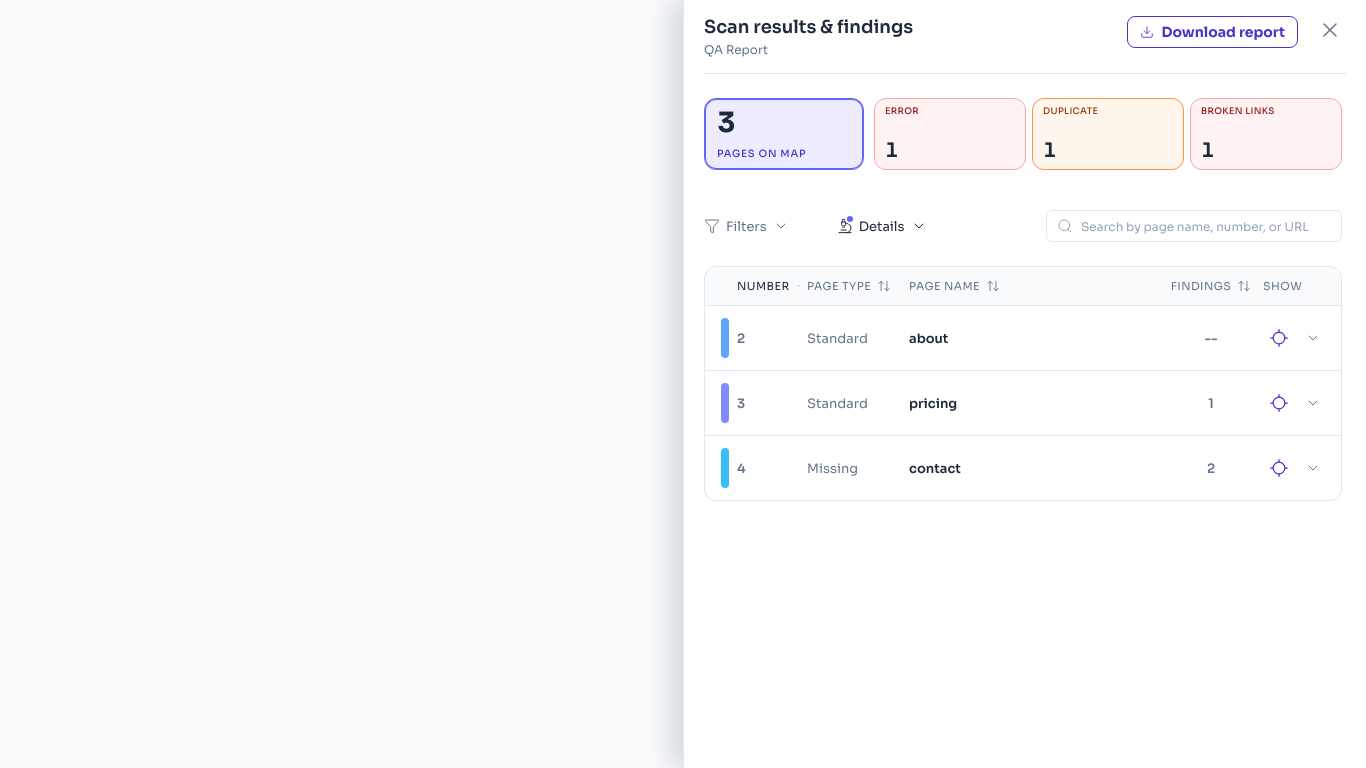
Test case: ReportDrawer › filters report rows from summary chips and clears filters from the total chip
Check: the button with class "report-total-card" is disabled, box [704,98,864,170]
Click the button with aria-label "Filter by Duplicate": (1108, 134) [1032,98,1184,170]
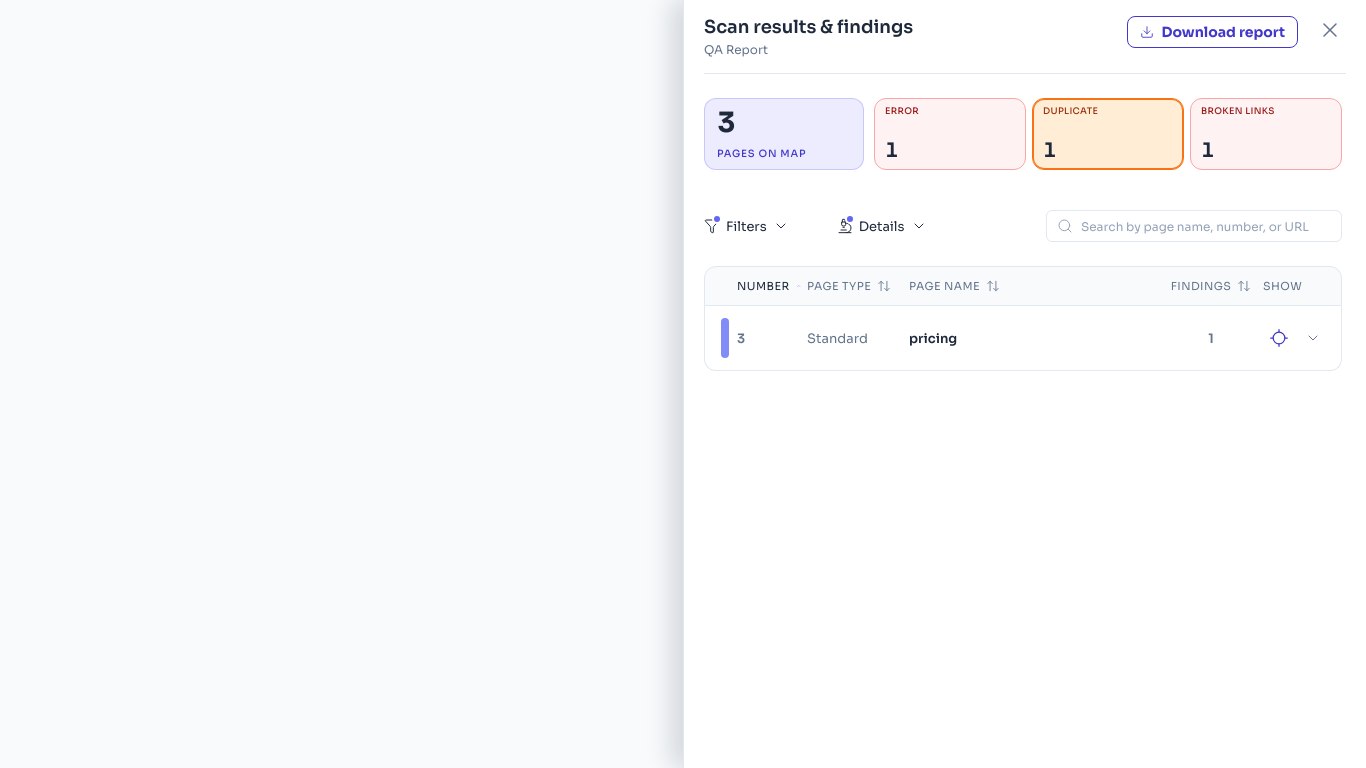
Check: the 1st element with class "report-filter-active-dot" is shown, box [714,216,720,222]
Check: the button with class "report-total-card" is enabled
Click the button with class "report-total-card": (784, 134) [704,98,864,170]
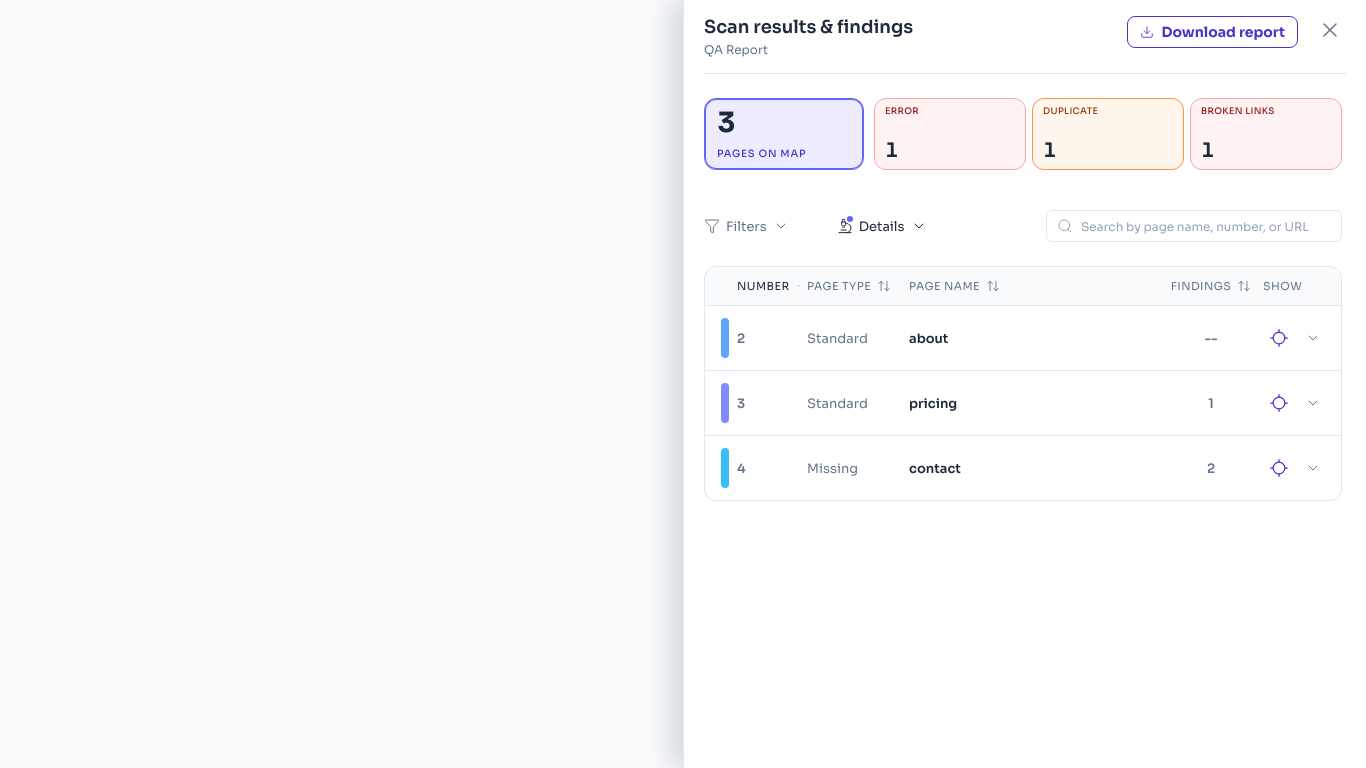
Check: the button with class "report-total-card" is disabled, box [704,98,864,170]
